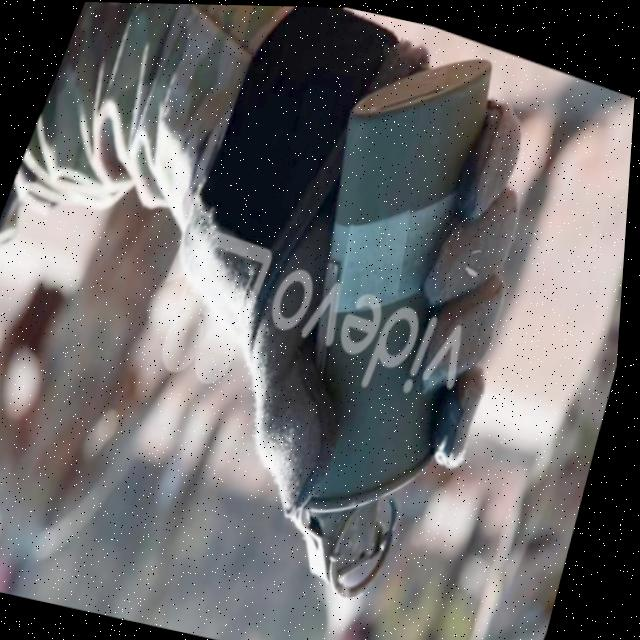grenade: (175, 13, 593, 631)
